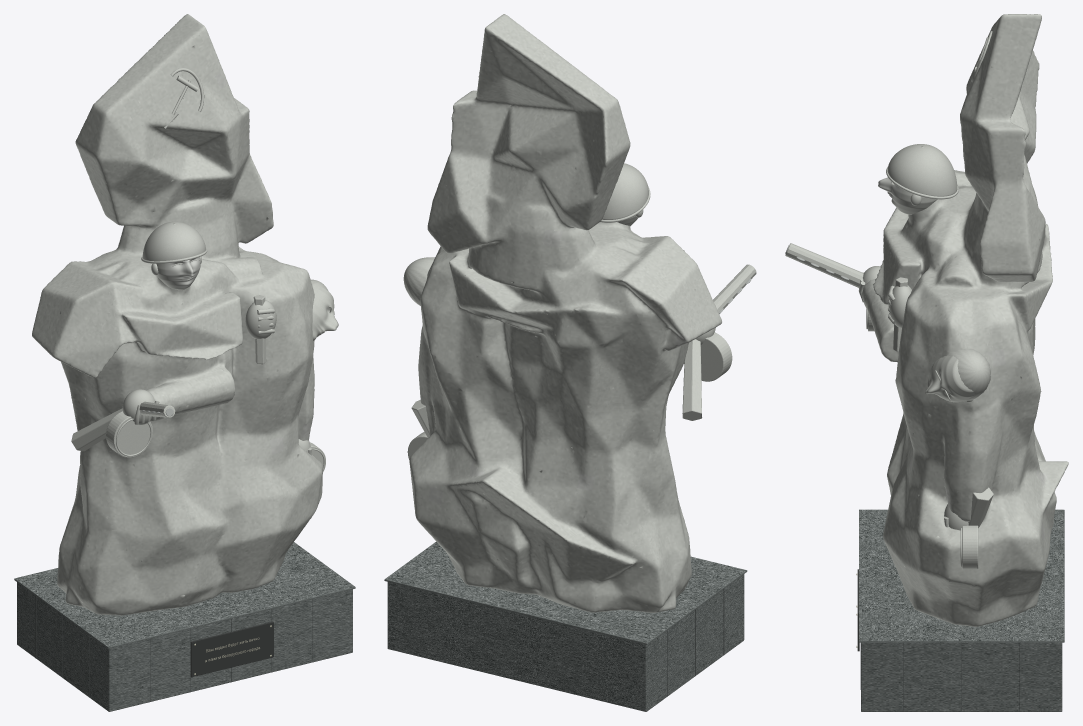
File: sculpture.glb
3 renders of one model, left to right at view 1: azimuth 30°, elevation 25°; view 2: azimuth 150°, elevation 25°; view 3: azimuth 270°, elevation 25°, orthographic. The views are drawn at different scales.
Parts seen in each view (by area): view 1: Continuous carved two-figure sculpture and banner, Grey granite pedestal, Thin stone cap, Black dedication plaque, Standing soldier helmet — dome and flared rim, Standing soldier PPSh drum magazine, Standing soldier face and cranium, Fallen comrade bowed head, Standing weapon stock, Hand grasping comrade collar, Hand supporting weapon; view 2: Continuous carved two-figure sculpture and banner, Grey granite pedestal, Thin stone cap, Standing soldier helmet — dome and flared rim, Standing weapon stock, Standing soldier PPSh drum magazine, Fallen comrade bowed head carved short hair, Standing soldier PPSh barrel jacket; view 3: Continuous carved two-figure sculpture and banner, Grey granite pedestal, Thin stone cap, Standing soldier helmet — dome and flared rim, Fallen comrade bowed head, Fallen comrade bowed head carved short hair, Standing soldier PPSh barrel jacket, Standing soldier face and cranium, Fallen comrade lowered PPSh drum magazine, Hand grasping comrade collar, Fallen weapon stock.
Boxes of the visible parts, x1,y1,x2,y2 form: Continuous carved two-figure sculpture and banner: (32, 14, 322, 615); Grey granite pedestal: (17, 582, 352, 711); Thin stone cap: (14, 542, 355, 648); Black dedication plaque: (190, 621, 273, 677); Standing soldier helmet — dome and flared rim: (142, 221, 205, 261); Standing soldier PPSh drum magazine: (106, 411, 152, 457); Standing soldier face and cranium: (156, 257, 200, 290); Fallen comrade bowed head: (312, 287, 338, 340); Standing weapon stock: (71, 408, 122, 451); Hand grasping comrade collar: (245, 300, 276, 338); Hand supporting weapon: (122, 389, 154, 424); Continuous carved two-figure sculpture and banner: (409, 14, 721, 612); Grey granite pedestal: (387, 574, 744, 711); Thin stone cap: (384, 541, 747, 644); Standing soldier helmet — dome and flared rim: (602, 163, 648, 219); Standing weapon stock: (682, 339, 702, 420); Standing soldier PPSh drum magazine: (684, 332, 732, 381); Fallen comrade bowed head carved short hair: (403, 257, 434, 305); Standing soldier PPSh barrel jacket: (713, 264, 756, 313); Continuous carved two-figure sculpture and banner: (861, 14, 1068, 626); Grey granite pedestal: (861, 642, 1062, 711); Thin stone cap: (859, 509, 1064, 642); Standing soldier helmet — dome and flared rim: (887, 144, 957, 196); Fallen comrade bowed head: (925, 355, 974, 402); Fallen comrade bowed head carved short hair: (941, 348, 990, 401); Standing soldier PPSh barrel jacket: (785, 243, 863, 287); Standing soldier face and cranium: (878, 177, 937, 214); Fallen comrade lowered PPSh drum magazine: (962, 525, 978, 569); Hand grasping comrade collar: (888, 285, 911, 327); Fallen weapon stock: (968, 487, 993, 527).
Bounding box in the file's own units: 3.4 × 6.8 × 2.67.
8 materials, 2 textured.
